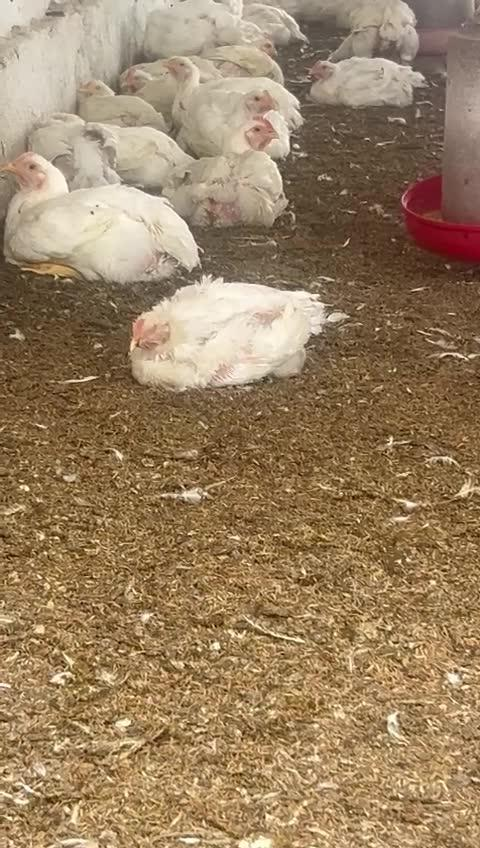AbNormal: (9, 152, 198, 288), (129, 289, 321, 384), (161, 117, 282, 225), (303, 60, 433, 112)
